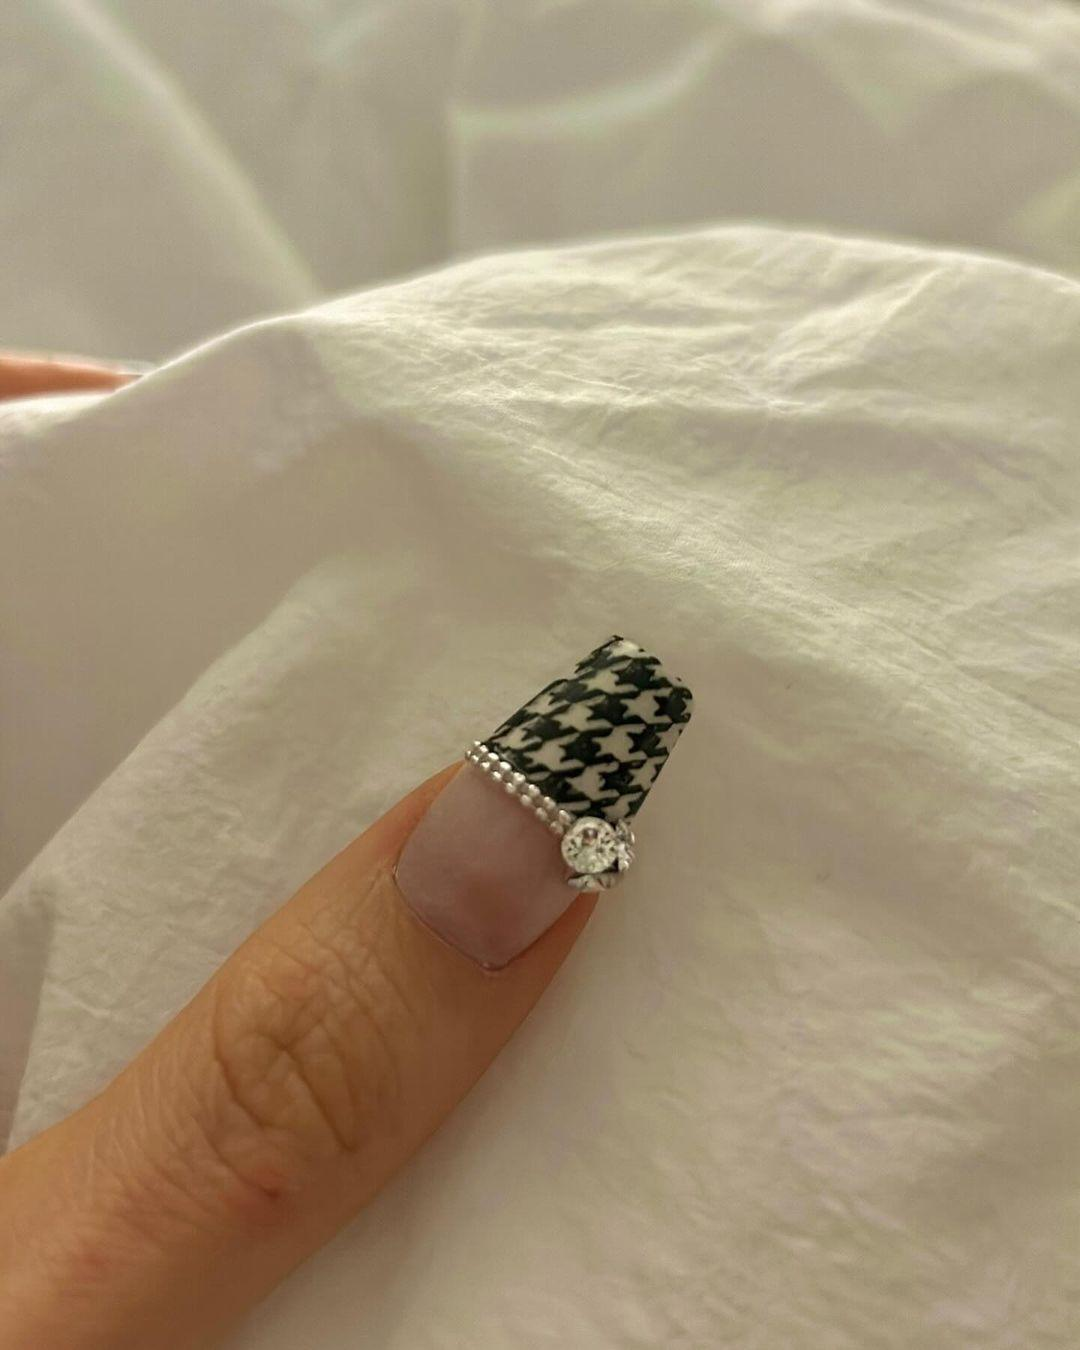nail: (389, 631, 694, 973)
